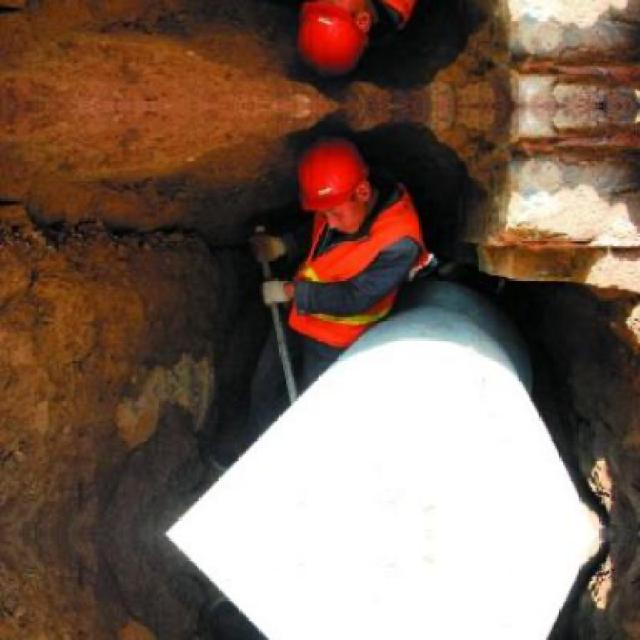con casco: (269, 135, 388, 274)
